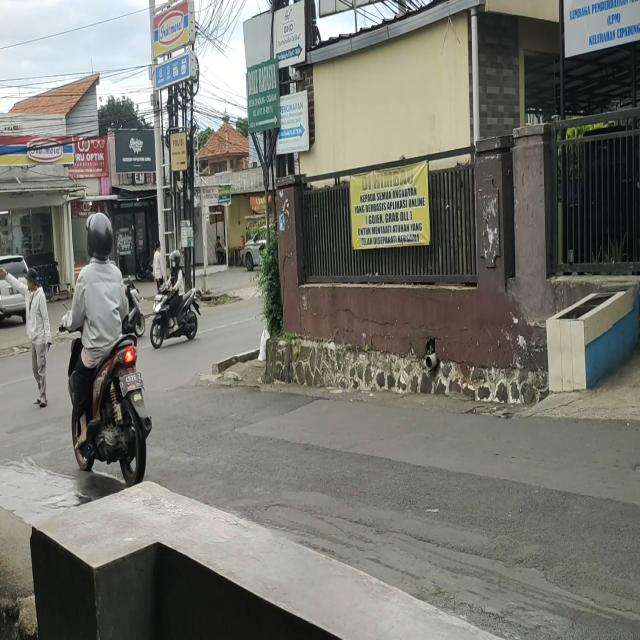helmet: (88, 214, 114, 265), (171, 247, 181, 271)
